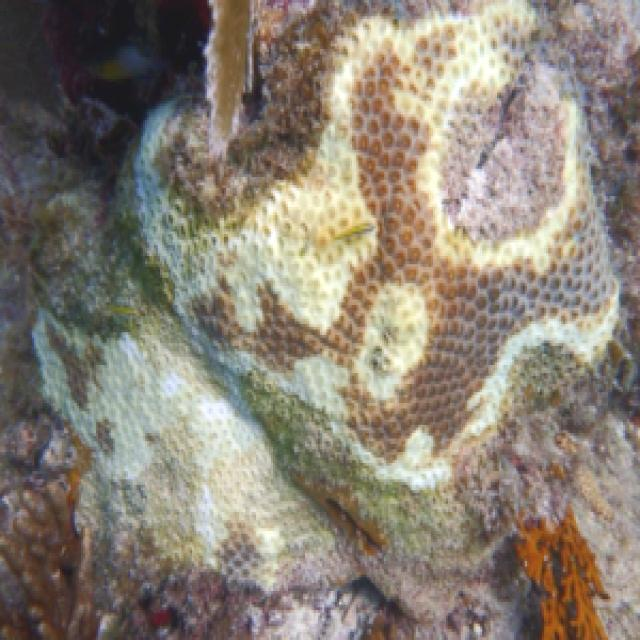Coral: (30, 0, 624, 626)
